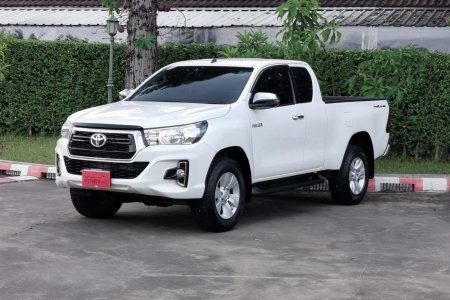pickup: (57, 56, 390, 230)
